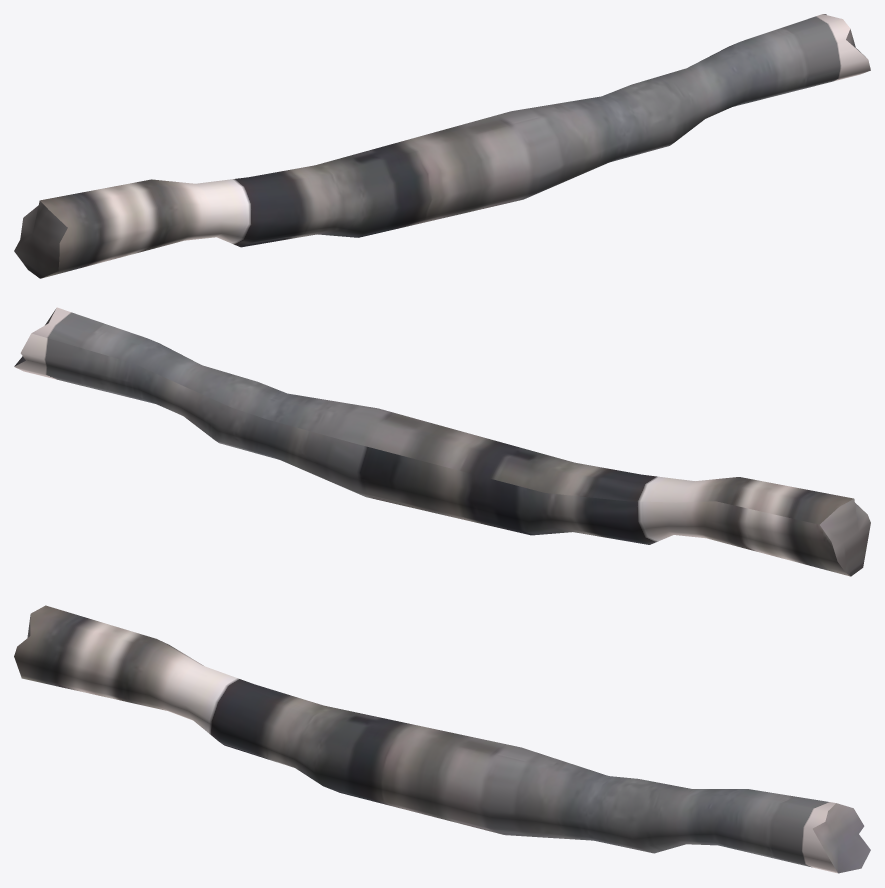
3 views of the same model, one above another, from view 1: azimuth 30°, elevation 25°; view 2: azimuth 150°, elevation 25°; view 3: azimuth 330°, elevation 25° (orthographic).
Parts seen in each view (by area): view 1: SM_Warhammer_Steel_2H_01_LOD0; view 2: SM_Warhammer_Steel_2H_01_LOD0; view 3: SM_Warhammer_Steel_2H_01_LOD0.
Boxes of the visible parts, box(x1,y1,x2,y2) form: SM_Warhammer_Steel_2H_01_LOD0: box(14, 14, 870, 278); SM_Warhammer_Steel_2H_01_LOD0: box(14, 307, 870, 576); SM_Warhammer_Steel_2H_01_LOD0: box(14, 605, 870, 873).
Bounding box in the file's own units: 1.23 × 0.1473 × 0.1216.
